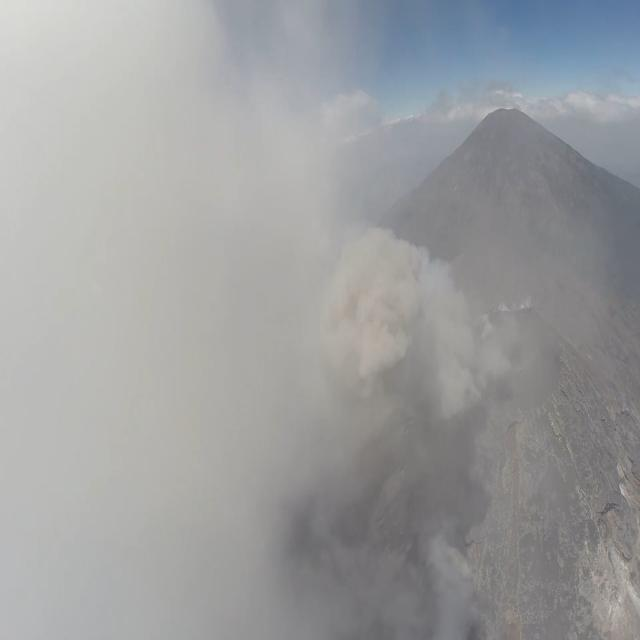Plume: (314, 225, 472, 418)
Summit: (378, 255, 640, 640)
